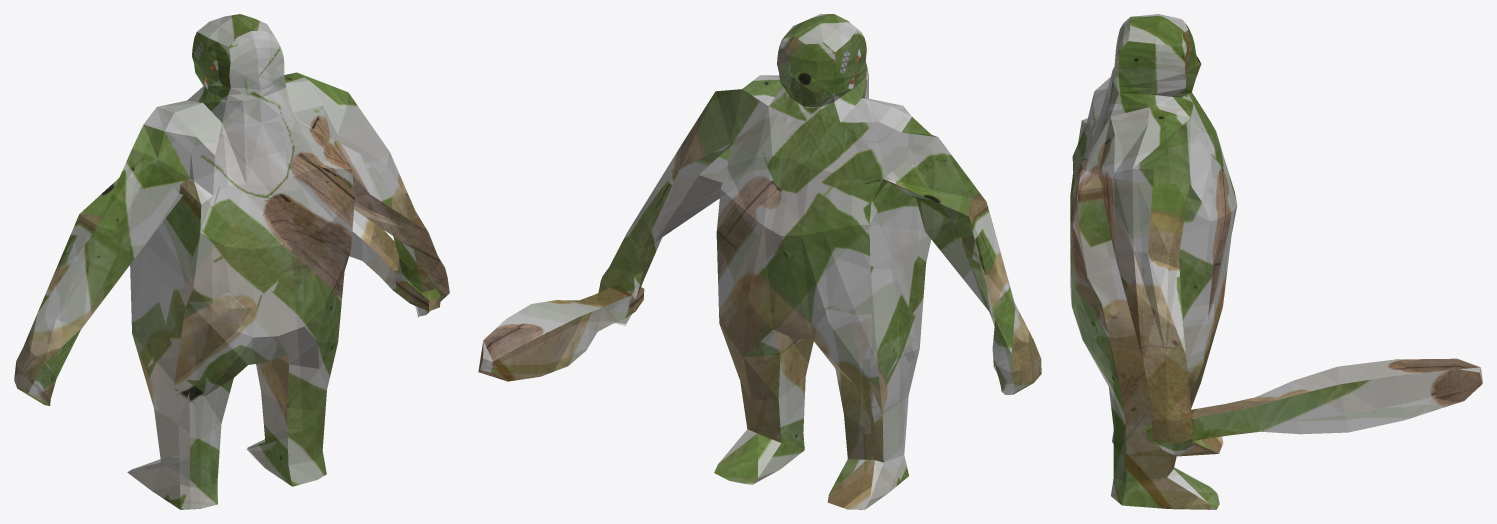
Rendered from Enemigo229.obj.
3 views of the same model, side by side, from view 1: azimuth 30°, elevation 25°; view 2: azimuth 150°, elevation 25°; view 3: azimuth 270°, elevation 25° (orthographic). The views are drawn at different scales.
Parts seen in each view (by area): view 1: Cube; view 2: Cube; view 3: Cube.
Boxes of the visible parts, x1,y1,x2,y2 form: Cube: (14, 14, 449, 509); Cube: (478, 14, 1041, 509); Cube: (1070, 14, 1482, 509).
Bounding box in the file's own units: 2.63 × 2.7 × 2.2.
